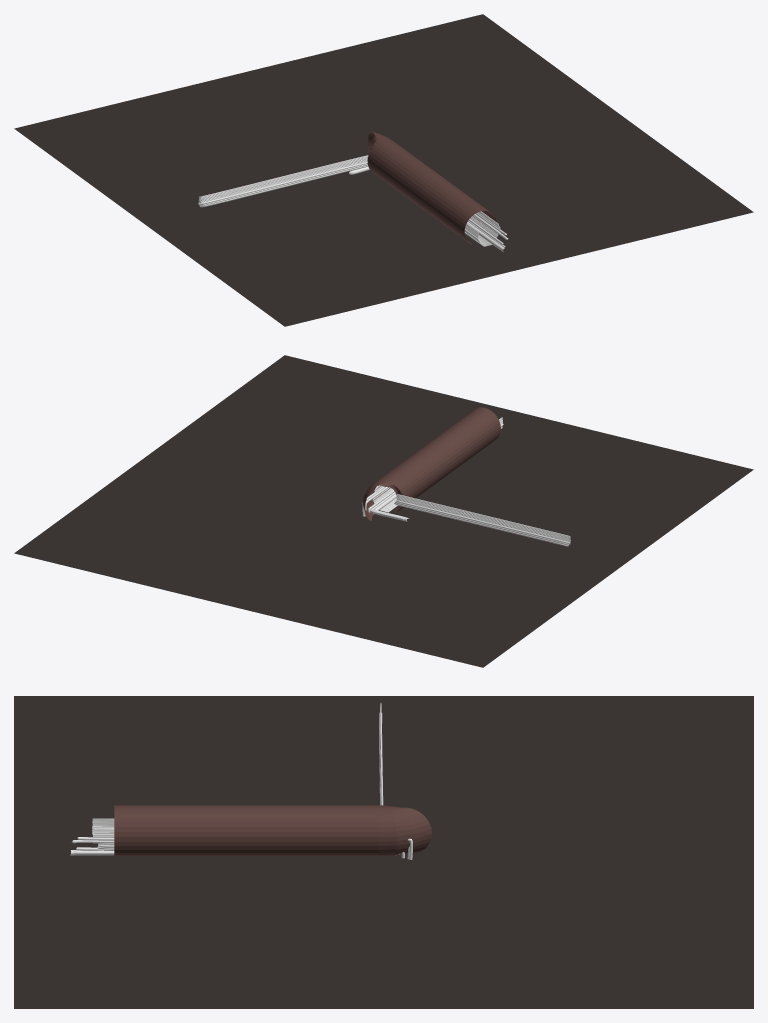
Rendered from pipes.gltf.
The picture shows the model from 3 angles, top to bottom: view 1: azimuth 30°, elevation 25°; view 2: azimuth 150°, elevation 25°; view 3: azimuth 270°, elevation 25°; orthographic projection. The views are drawn at different scales.
Visible parts, largest first — view 1: Plane, Circle; view 2: Plane, Circle; view 3: Plane, Circle.
Part boxes in pixels (x1,y1,x2,y2): Plane: [14, 14, 753, 326]; Circle: [367, 131, 496, 244]; Plane: [14, 355, 753, 667]; Circle: [363, 407, 500, 520]; Plane: [14, 696, 753, 1008]; Circle: [114, 805, 431, 856].
Bounding box in the file's own units: 231 × 29.76 × 231.
